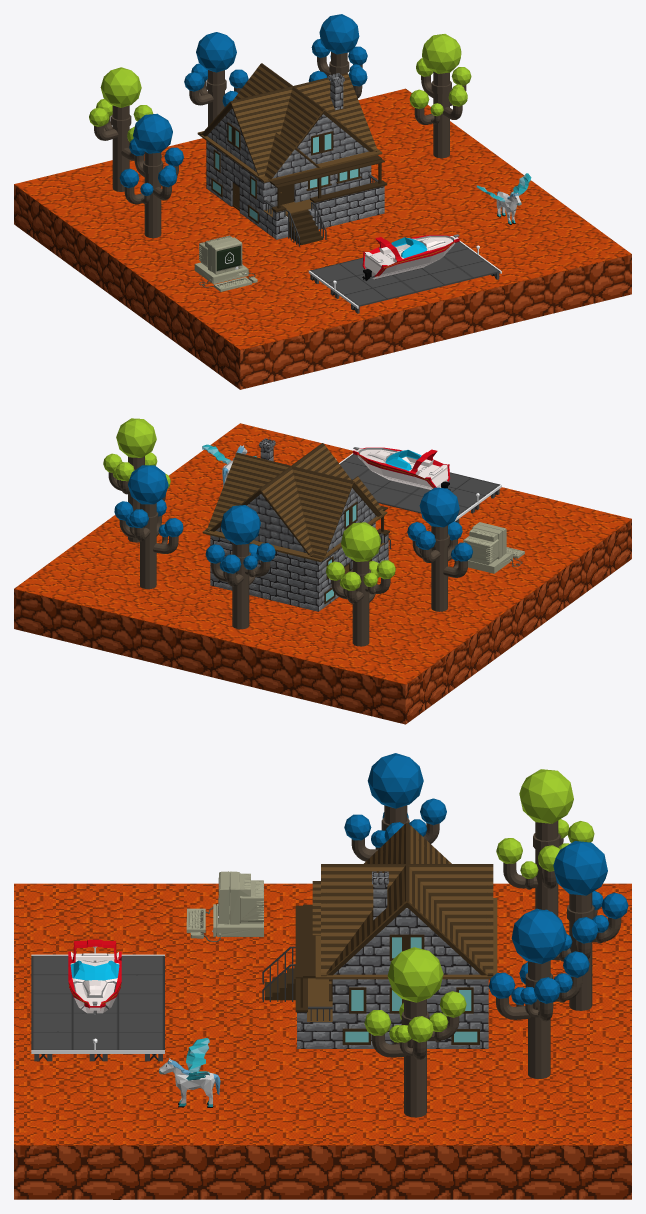
3 views of the same model, one above another, from view 1: azimuth 30°, elevation 25°; view 2: azimuth 150°, elevation 25°; view 3: azimuth 270°, elevation 25° (orthographic). The views are drawn at different scales.
Parts seen in each view (by area): view 1: Cube.001, Cube.586, VEHICLES_BOAT, OBJRANDOM_RETRO_PC, ANIMAL_PEGASO; view 2: Cube.001, Cube.586, VEHICLES_BOAT, OBJRANDOM_RETRO_PC, ANIMAL_PEGASO; view 3: Cube.001, Cube.586, OBJRANDOM_RETRO_PC, VEHICLES_BOAT, ANIMAL_PEGASO.
Boxes of the visible parts, bbox=[...] form: Cube.001: bbox=[14, 14, 631, 389]; Cube.586: bbox=[197, 63, 387, 246]; VEHICLES_BOAT: bbox=[362, 234, 459, 280]; OBJRANDOM_RETRO_PC: bbox=[194, 235, 257, 291]; ANIMAL_PEGASO: bbox=[476, 173, 531, 224]; Cube.001: bbox=[14, 418, 631, 724]; Cube.586: bbox=[202, 438, 390, 611]; VEHICLES_BOAT: bbox=[353, 447, 450, 490]; OBJRANDOM_RETRO_PC: bbox=[463, 522, 524, 573]; ANIMAL_PEGASO: bbox=[202, 444, 256, 486]; Cube.001: bbox=[14, 753, 631, 1199]; Cube.586: bbox=[262, 823, 497, 1048]; OBJRANDOM_RETRO_PC: bbox=[186, 871, 263, 941]; VEHICLES_BOAT: bbox=[68, 939, 121, 1014]; ANIMAL_PEGASO: bbox=[159, 1038, 220, 1107].
Size of the model in its own units: 4000 by 1637 by 4000.
Materials: 30 (5 with a texture image).
